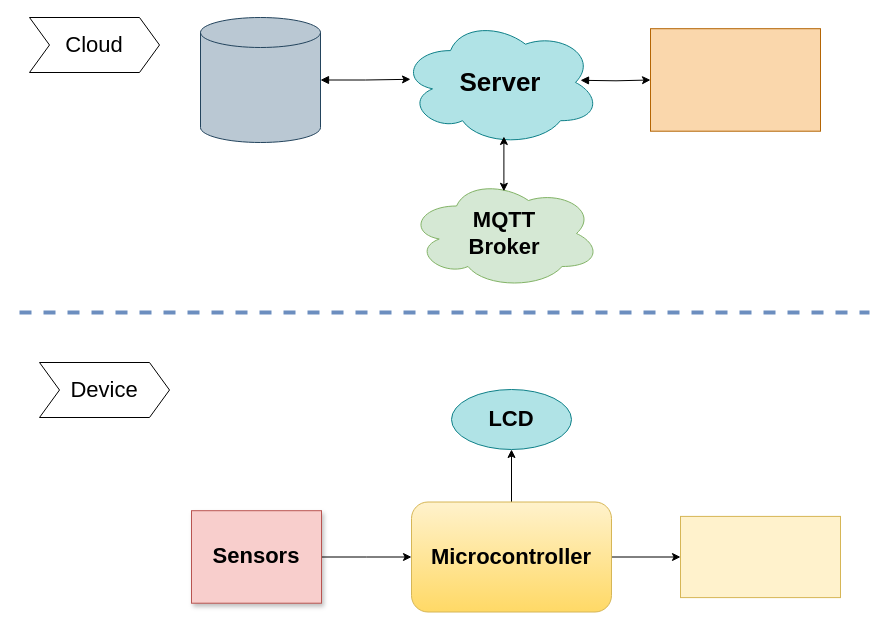
This 889x630 diagram has some shape labels left out. The shapes that lost their labels are listed below. From the top down, each one's centre as x and y in pixels, then its label:
At point 260,79: "Database".
At point 735,79: "Web application".
At point 760,556: "Pumps".
